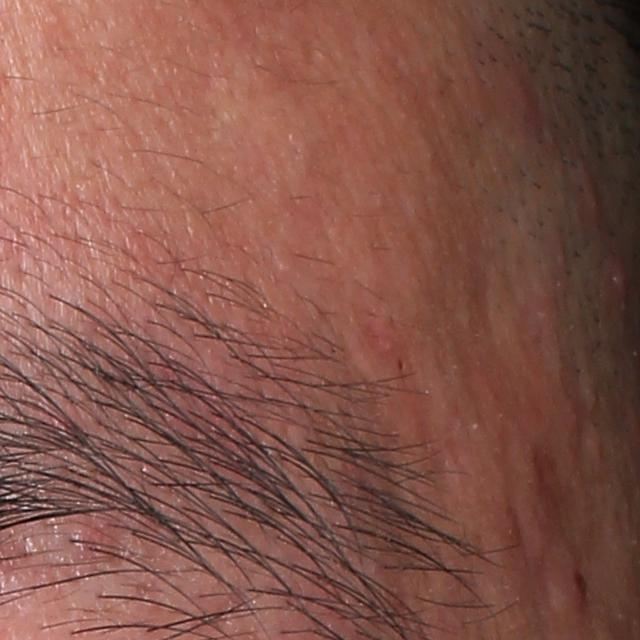papule: (545, 541, 595, 619), (502, 70, 547, 126), (608, 251, 635, 302)
